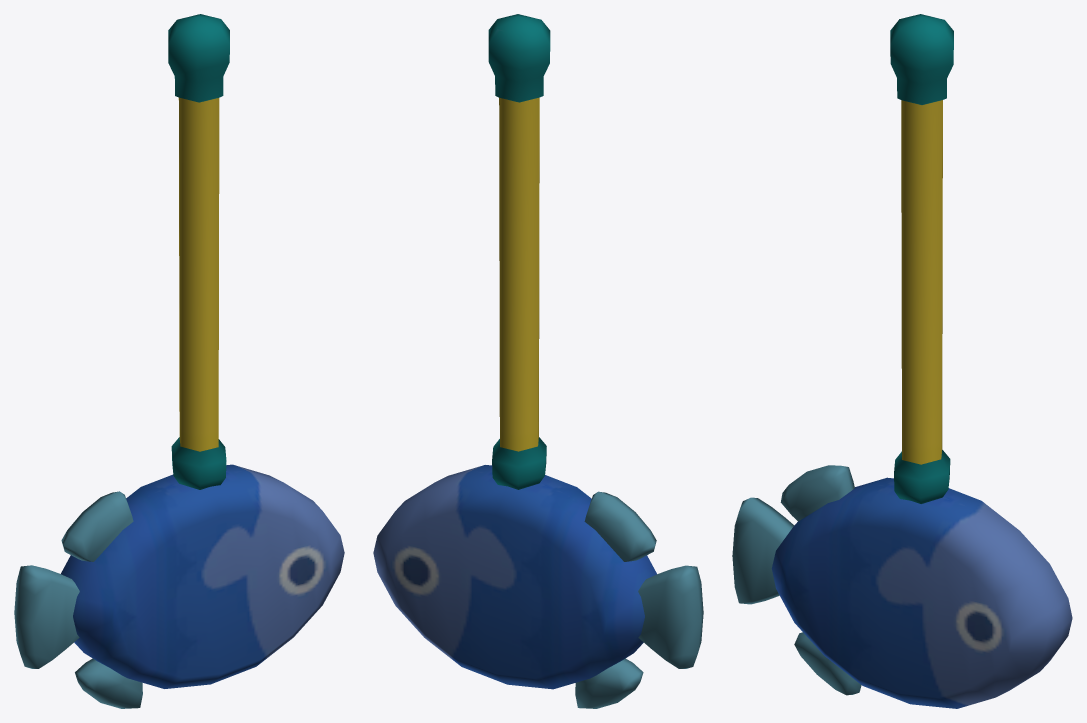
Rendered from ToolStickFish.glb.
3 views of the same model, side by side, from view 1: azimuth 30°, elevation 25°; view 2: azimuth 150°, elevation 25°; view 3: azimuth 330°, elevation 25° (orthographic). The views are drawn at different scales.
Parts seen in each view (by area): view 1: FishA__mTool; view 2: FishA__mTool; view 3: FishA__mTool.
Part boxes in pixels (<box>): FishA__mTool: <box>14,14,344,708</box>; FishA__mTool: <box>373,14,703,708</box>; FishA__mTool: <box>732,14,1072,708</box>.
Bounding box in the file's own units: 2.51 × 5.08 × 0.6514.
Materials: 1 (1 with a texture image).
